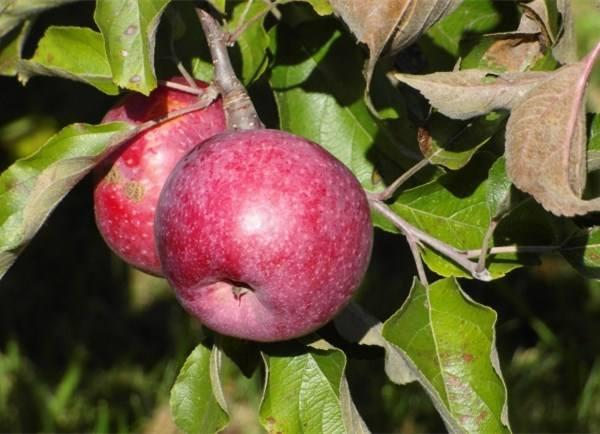apple: (154, 127, 370, 345), (93, 78, 236, 280)
